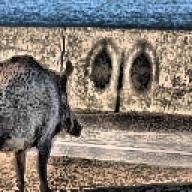boar: (0, 52, 82, 191)
